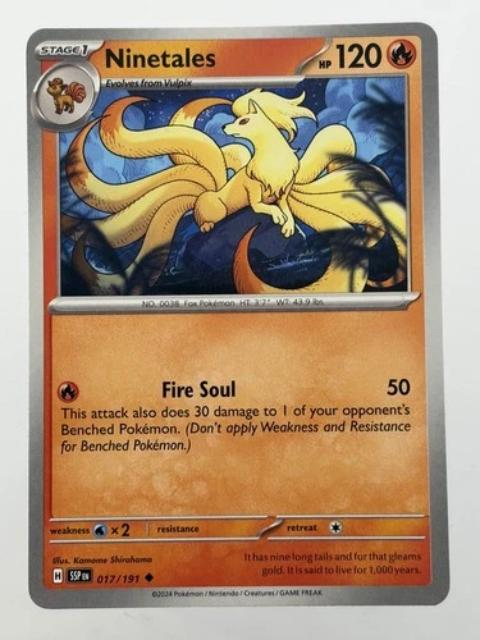Card: (17, 18, 454, 611)
Name: (97, 38, 220, 72)
